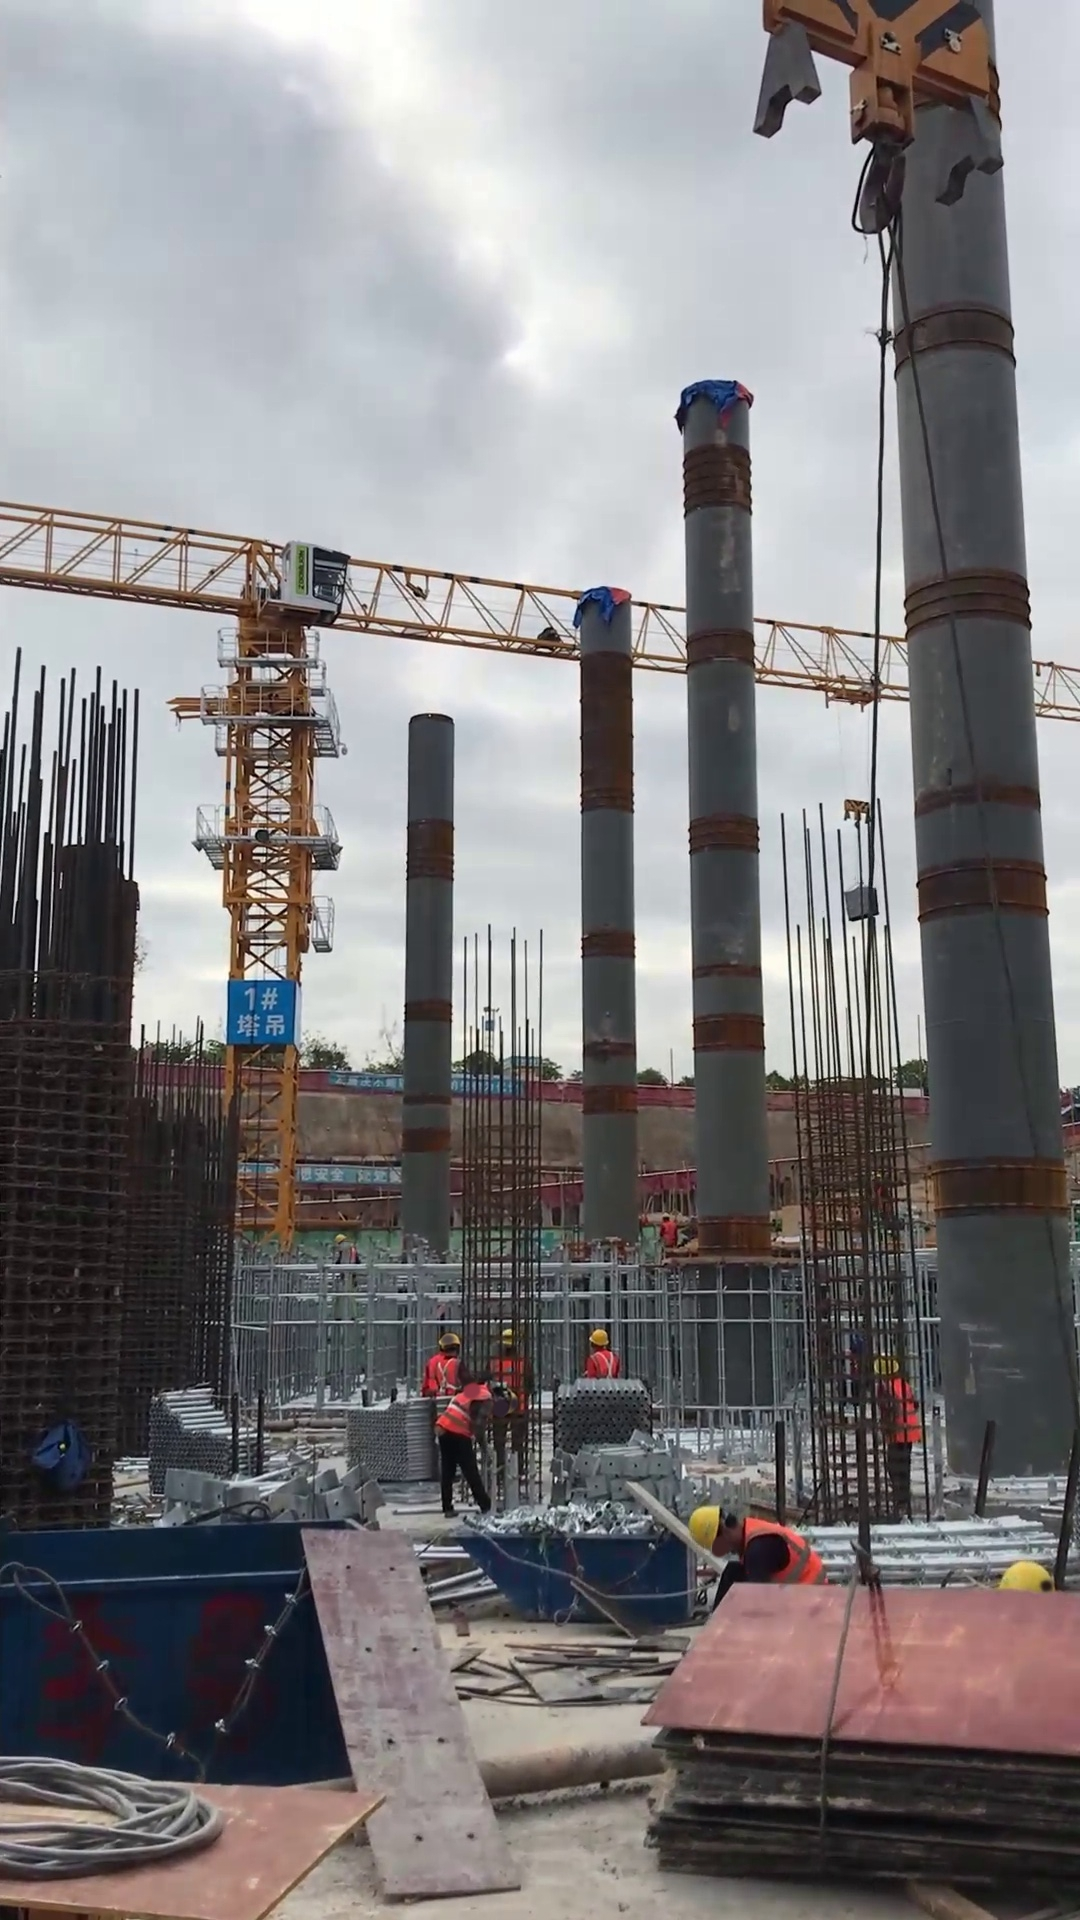board: (643, 1580, 1080, 1889)
helmet: (995, 1556, 1054, 1597), (687, 1504, 723, 1560), (871, 1349, 899, 1377), (498, 1383, 520, 1417), (437, 1330, 463, 1352), (497, 1326, 523, 1348), (587, 1326, 610, 1347), (334, 1232, 347, 1244), (660, 1211, 672, 1221)
hook: (752, 1, 1016, 238), (842, 795, 871, 831)
hopper: (1, 1517, 370, 1792), (447, 1524, 709, 1627)
person: (687, 1503, 830, 1612), (434, 1381, 519, 1521), (871, 1349, 922, 1526), (485, 1326, 535, 1484), (435, 1330, 470, 1395), (582, 1326, 620, 1379), (334, 1232, 362, 1266), (657, 1211, 678, 1250)
scaffold: (797, 1517, 1071, 1593), (145, 1383, 273, 1497), (342, 1394, 444, 1486), (550, 1377, 659, 1452)
slogan: (328, 1065, 522, 1098), (235, 1157, 402, 1186), (225, 976, 296, 1045)
vest: (740, 1513, 831, 1588), (437, 1383, 492, 1441), (490, 1347, 536, 1415), (879, 1378, 922, 1445), (424, 1354, 463, 1394), (589, 1349, 620, 1380), (658, 1219, 678, 1249), (338, 1245, 359, 1263)
